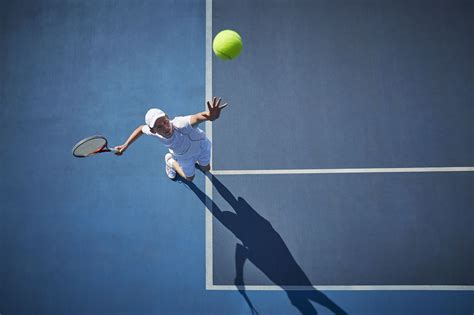tennis_ball: (213, 30, 242, 59)
